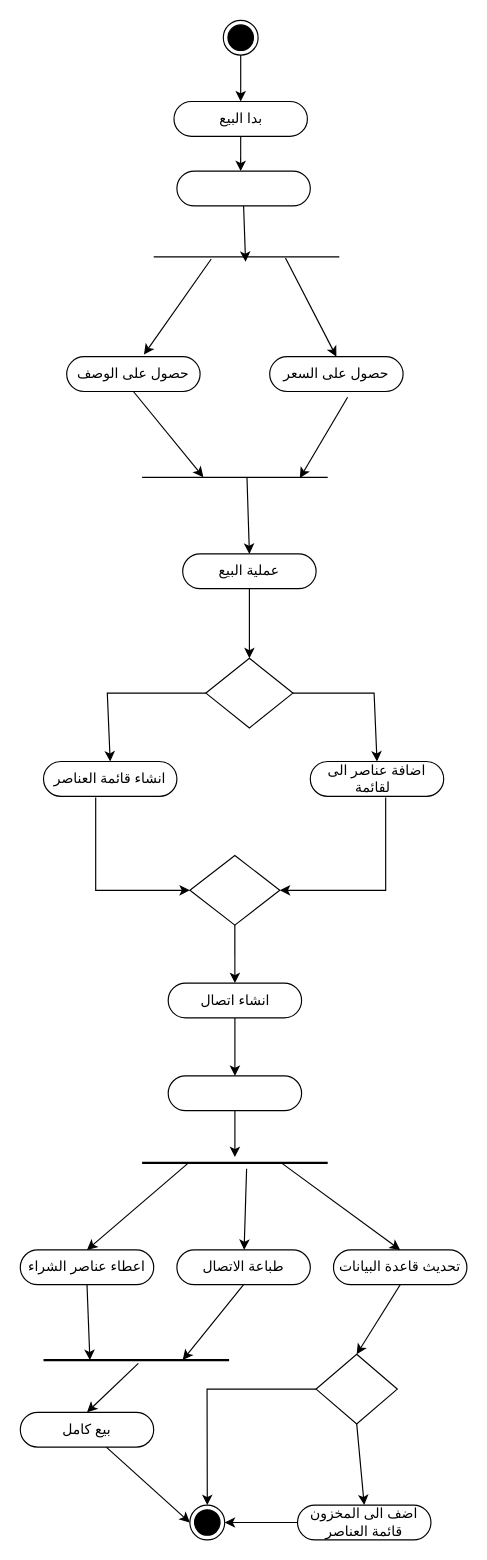
This 487x1560 diagram has some shape labels left out. The shapes that lost their labels are listed below. From the top down, each one's centre as x and y in pixels, then its label:
the point at 243,188: مسح الرمز
the point at 234,1093: اخذ الدفع
